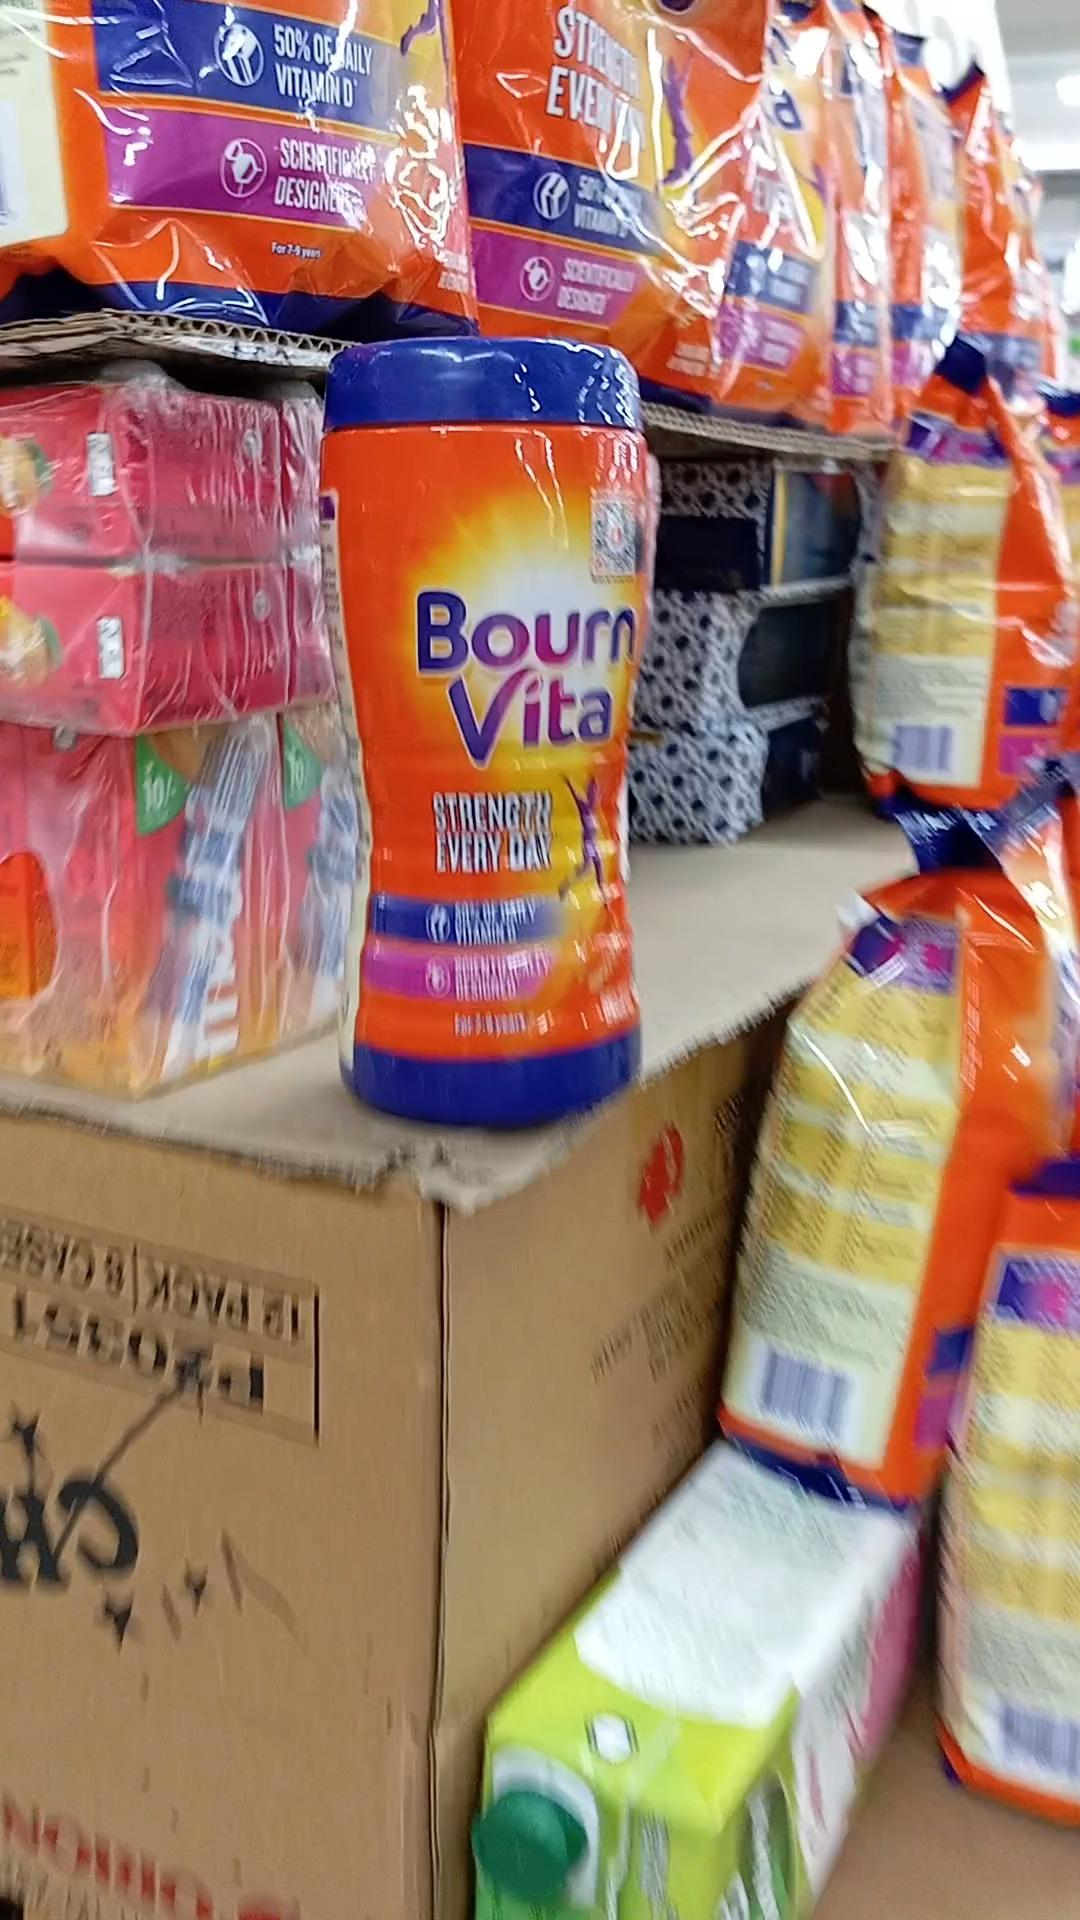BOURN_VITA_200_G_JAR: (347, 327, 645, 1137)
